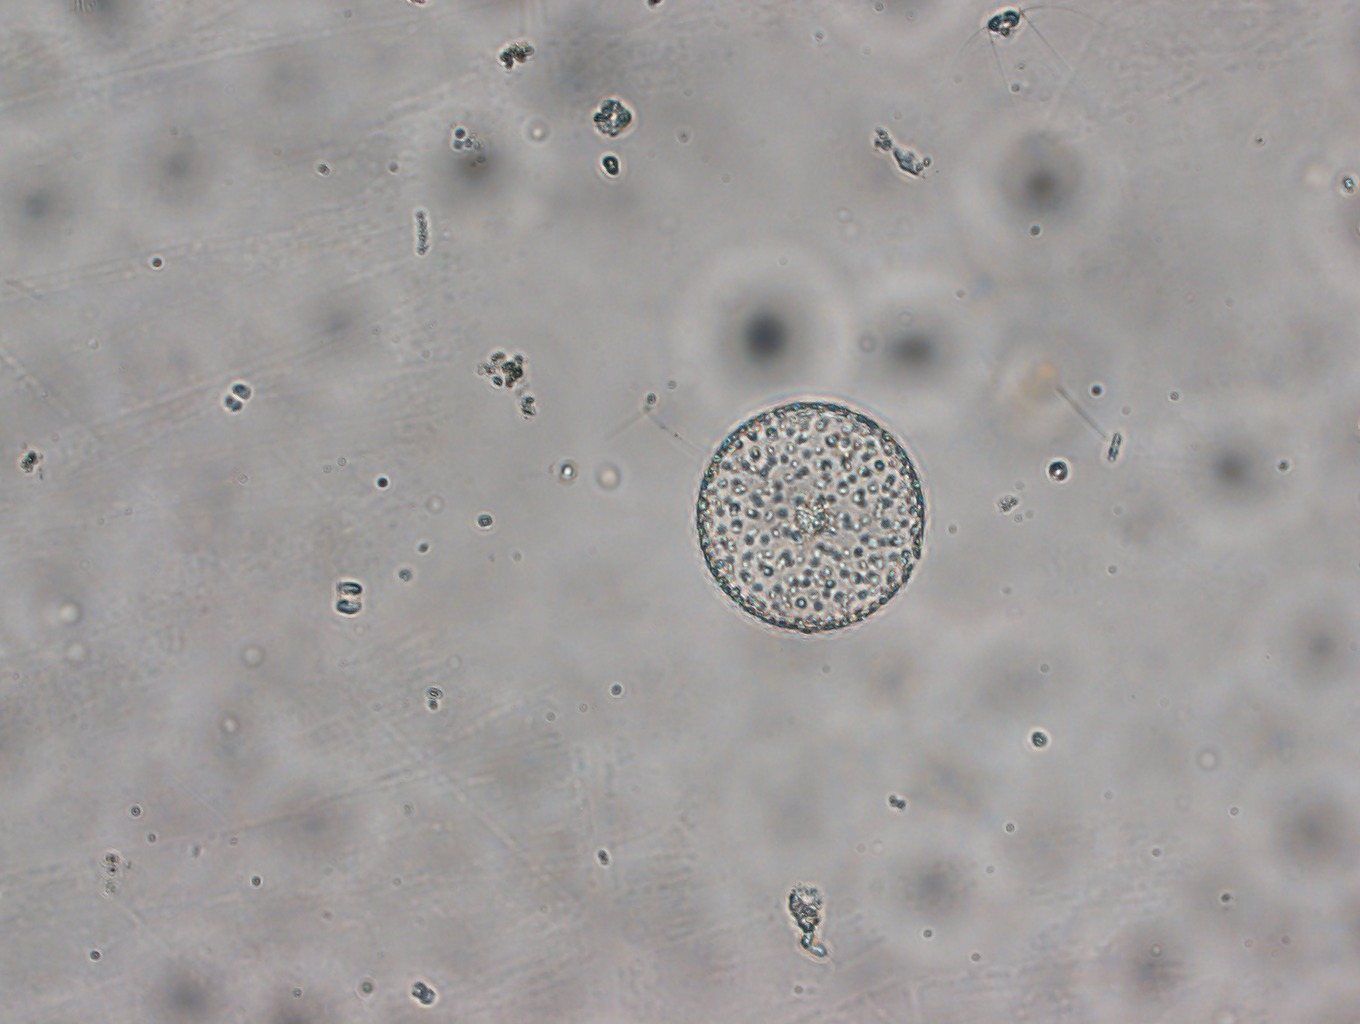coscinodiscus: (695, 399, 928, 635)
